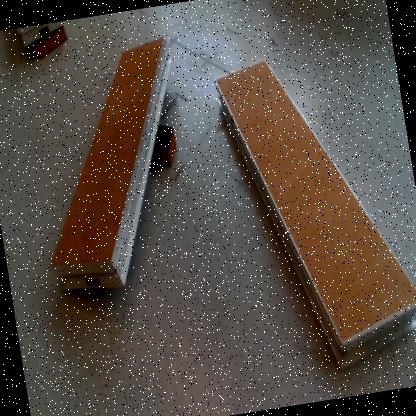Stairs: (216, 58, 416, 369), (52, 37, 174, 295), (17, 22, 63, 49)
